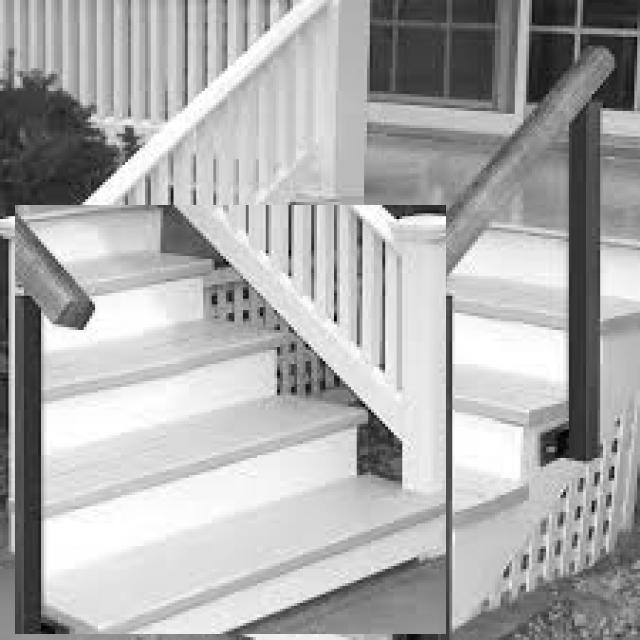stair: (16, 205, 446, 634)
